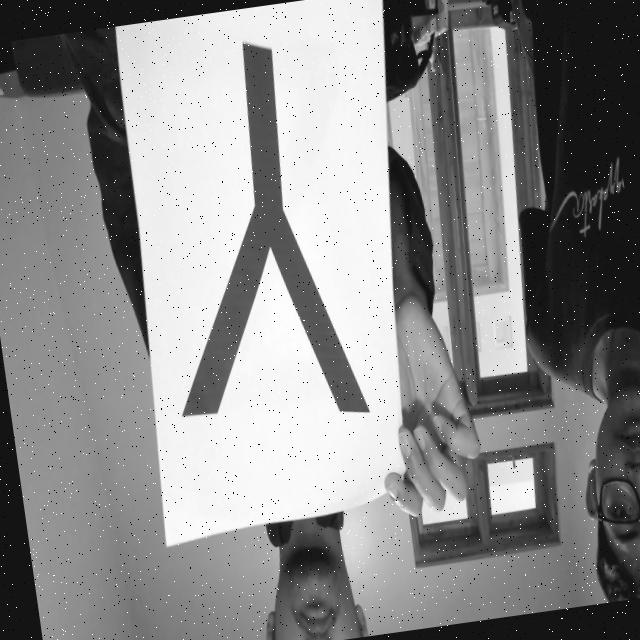y: (107, 35, 380, 458)
